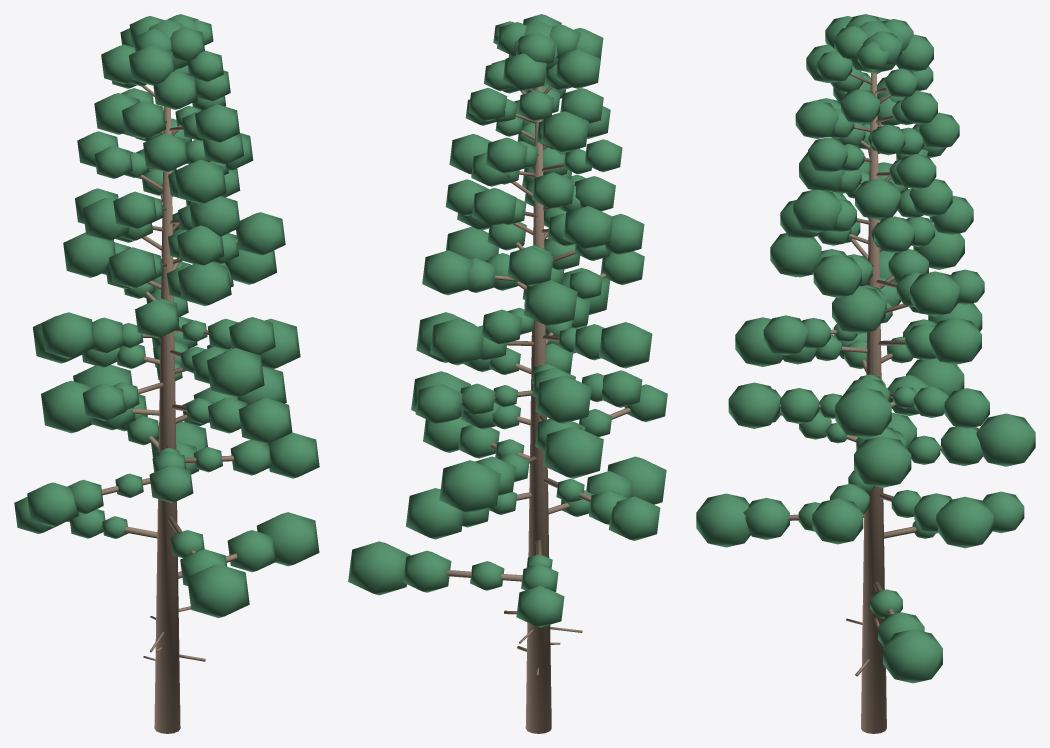
File: pine_spruce_narrow.glb
3 renders of one model, left to right at view 1: azimuth 30°, elevation 25°; view 2: azimuth 150°, elevation 25°; view 3: azimuth 270°, elevation 25°, orthographic.
Visible parts, largest first — view 1: pine_spruce_narrow; view 2: pine_spruce_narrow; view 3: pine_spruce_narrow.
Boxes of the visible parts, bbox=[...] form: pine_spruce_narrow: bbox=[14, 14, 319, 733]; pine_spruce_narrow: bbox=[348, 14, 667, 733]; pine_spruce_narrow: bbox=[696, 14, 1035, 733].
Size of the model in its own units: 7.32 by 16.8 by 7.29.
